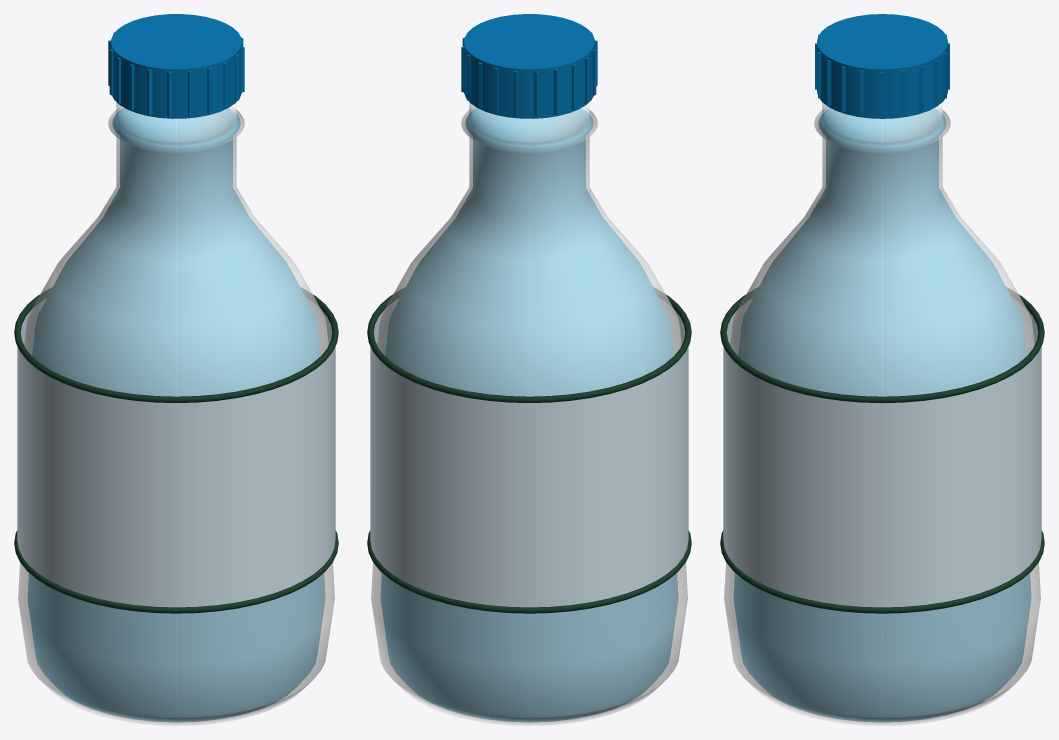
Rendered from mineral-water.glb.
The picture shows the model from 3 angles, left to right: view 1: azimuth 30°, elevation 25°; view 2: azimuth 150°, elevation 25°; view 3: azimuth 270°, elevation 25°; orthographic projection.
Visible parts, largest first — view 1: object 1, object 2, ProductLabel, object 6, object 4, object 5; view 2: object 1, object 2, ProductLabel, object 6, object 4, object 5; view 3: object 1, object 2, ProductLabel, object 6, object 4, object 5.
Part boxes in pixels (bbox=[...]): object 1: bbox=[18, 102, 334, 725]; object 2: bbox=[28, 108, 324, 722]; ProductLabel: bbox=[17, 298, 335, 607]; object 6: bbox=[111, 14, 241, 118]; object 4: bbox=[14, 288, 338, 402]; object 5: bbox=[14, 530, 338, 613]; object 1: bbox=[371, 102, 687, 725]; object 2: bbox=[381, 108, 677, 722]; ProductLabel: bbox=[370, 298, 688, 607]; object 6: bbox=[464, 14, 594, 118]; object 4: bbox=[367, 288, 691, 402]; object 5: bbox=[367, 530, 691, 613]; object 1: bbox=[724, 102, 1040, 725]; object 2: bbox=[734, 108, 1030, 722]; ProductLabel: bbox=[723, 298, 1041, 607]; object 6: bbox=[817, 14, 947, 118]; object 4: bbox=[720, 288, 1044, 403]; object 5: bbox=[720, 530, 1044, 613].
Bounding box in the file's own units: 1.19 × 2.55 × 1.19.
